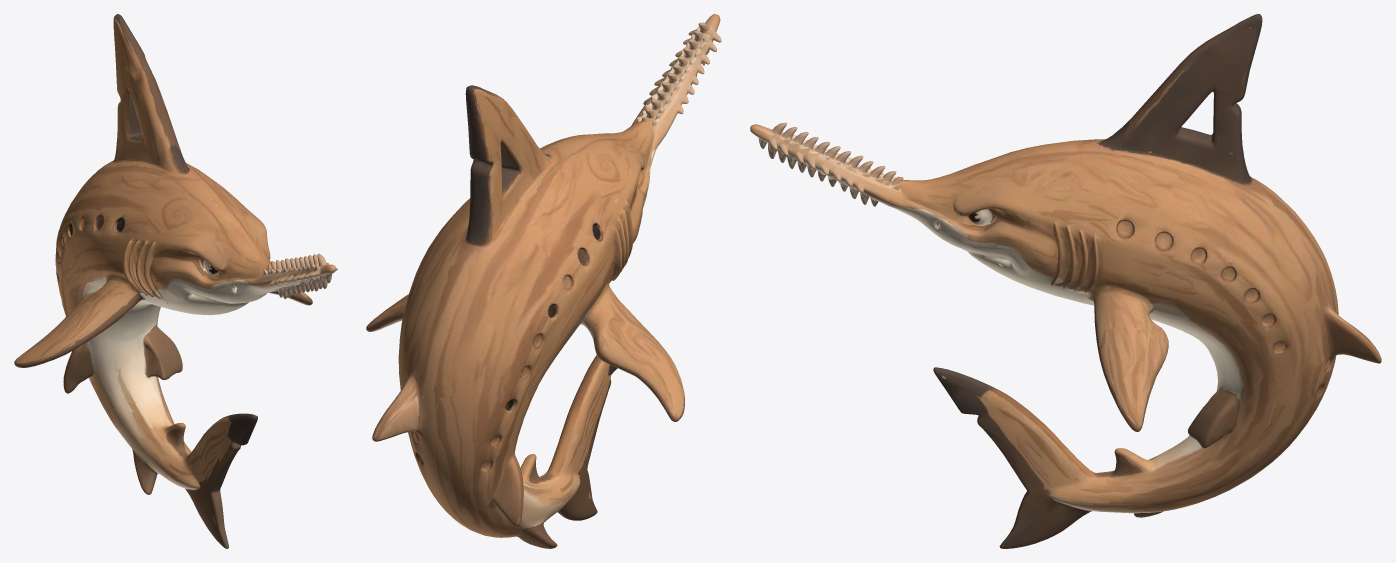
The picture shows the model from 3 angles, left to right: view 1: azimuth 30°, elevation 25°; view 2: azimuth 150°, elevation 25°; view 3: azimuth 270°, elevation 25°; orthographic projection. The views are drawn at different scales.
Parts seen in each view (by area): view 1: Mesh_0; view 2: Mesh_0; view 3: Mesh_0.
Part boxes in pixels (x1=…): Mesh_0: x1=14, y1=14, x2=337, y2=548; Mesh_0: x1=366, y1=14, x2=721, y2=548; Mesh_0: x1=750, y1=14, x2=1381, y2=548.
Size of the model in its own units: 1.17 by 1.77 by 1.9.
Materials: 1 (1 with a texture image).
